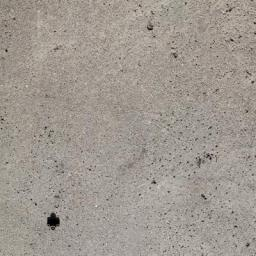FOD: (46, 209, 64, 234)
